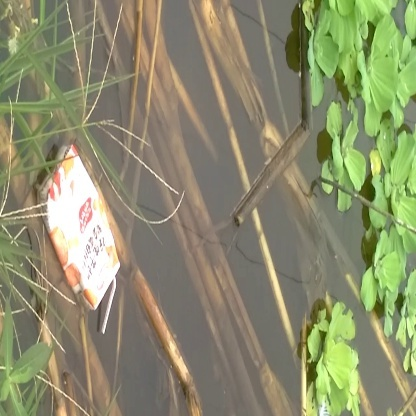milk-box: (34, 138, 129, 337)
